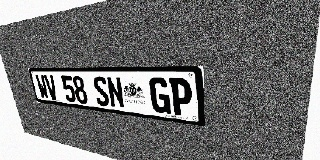5: (61, 75, 77, 103)
8: (71, 76, 89, 104)
G: (149, 77, 171, 114)
N: (106, 76, 125, 109)
P: (169, 78, 193, 117)
S: (92, 76, 110, 107)
V: (44, 75, 59, 100)
W: (35, 75, 50, 99)
